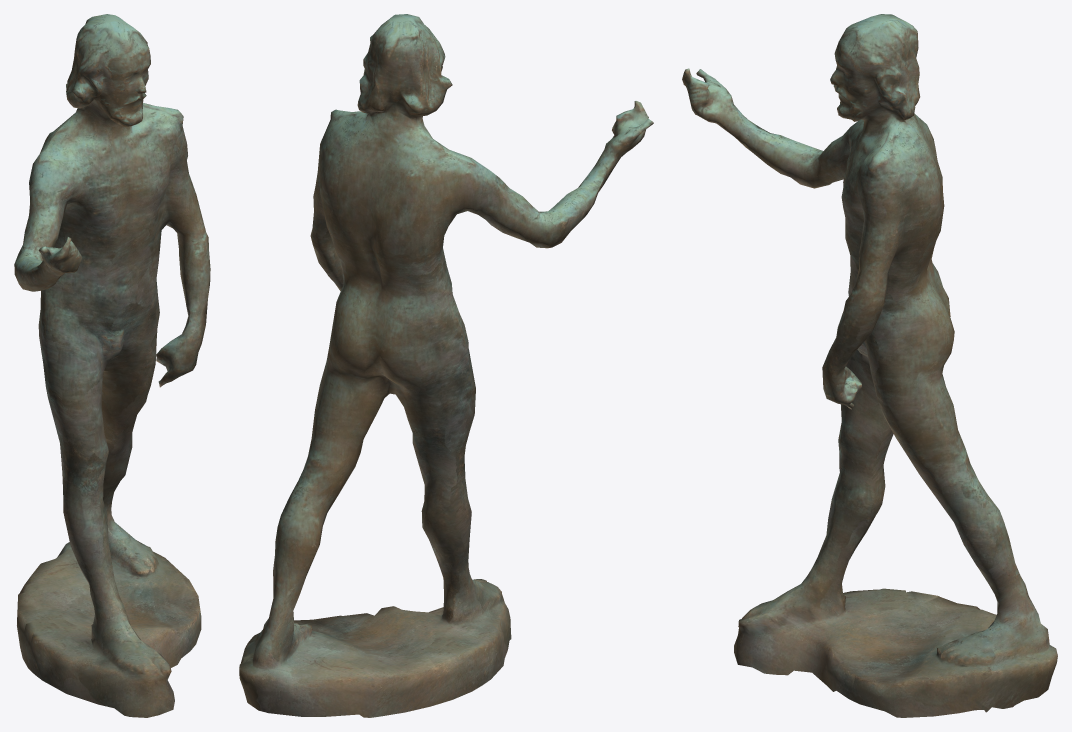
File: senor_caminando.glb
The picture shows the model from 3 angles, left to right: view 1: azimuth 30°, elevation 25°; view 2: azimuth 150°, elevation 25°; view 3: azimuth 270°, elevation 25°; orthographic projection. The views are drawn at different scales.
Parts seen in each view (by area): view 1: sculpture.o.001; view 2: sculpture.o.001; view 3: sculpture.o.001.
Boxes of the visible parts, <box> form: sculpture.o.001: <box>14,14,210,717</box>; sculpture.o.001: <box>239,14,653,717</box>; sculpture.o.001: <box>682,14,1057,717</box>.
Bounding box in the file's own units: 250 × 586 × 306.
Materials: 1 (1 with a texture image).
